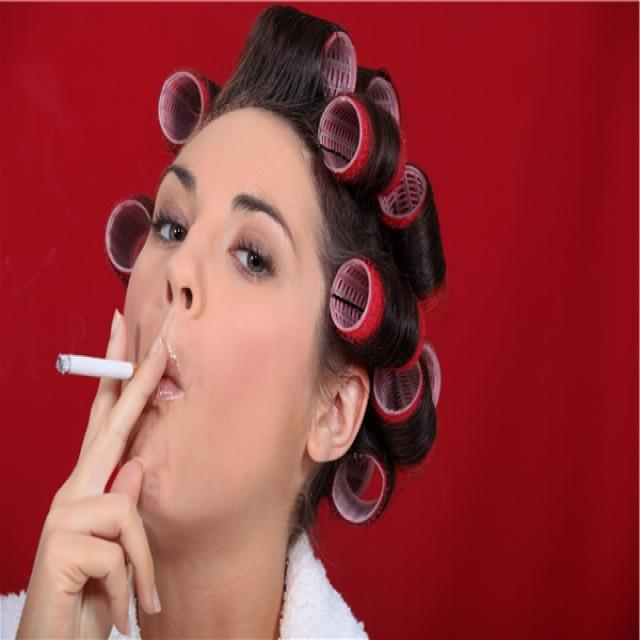smoking: (56, 350, 145, 385)
